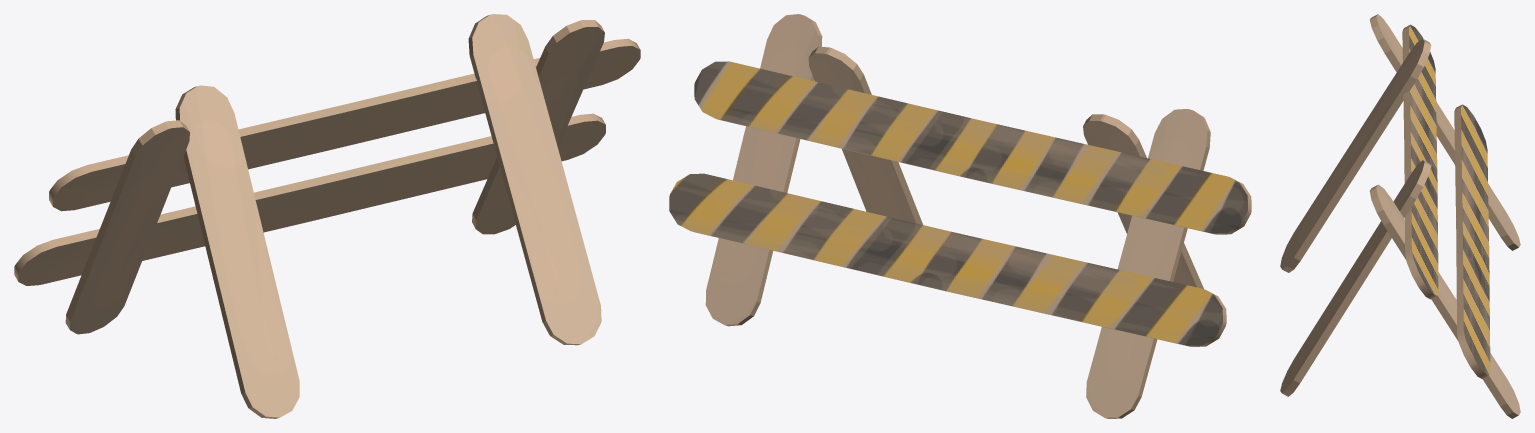
The model's file is crossing_sticks.fbx.
The picture shows the model from 3 angles, left to right: view 1: azimuth 30°, elevation 25°; view 2: azimuth 150°, elevation 25°; view 3: azimuth 270°, elevation 25°; orthographic projection. The views are drawn at different scales.
Parts seen in each view (by area): view 1: stick_3, stick_5, stick_crossing_2, stick_crossing_1, stick_4, stick_1; view 2: stick_crossing_1, stick_crossing_2, stick_4, stick_1, stick_3, stick_5; view 3: stick_crossing_2, stick_crossing_1, stick_5, stick_3, stick_1, stick_4.
Boxes of the visible parts, x1,y1,x2,y2 form: stick_3: (468, 14, 601, 345); stick_5: (175, 85, 299, 418); stick_crossing_2: (14, 113, 605, 285); stick_crossing_1: (49, 38, 640, 211); stick_4: (65, 120, 189, 334); stick_1: (472, 20, 604, 234); stick_crossing_1: (694, 61, 1251, 234); stick_crossing_2: (669, 173, 1226, 346); stick_4: (1086, 109, 1210, 418); stick_1: (705, 14, 822, 326); stick_3: (808, 46, 922, 224); stick_5: (1083, 114, 1203, 288); stick_crossing_2: (1454, 104, 1490, 378); stick_crossing_1: (1402, 24, 1438, 299); stick_5: (1280, 38, 1431, 272); stick_3: (1280, 160, 1431, 396); stick_1: (1369, 184, 1520, 418); stick_4: (1370, 14, 1520, 250).
Bounding box in the file's own units: 165 × 72.67 × 68.85.
